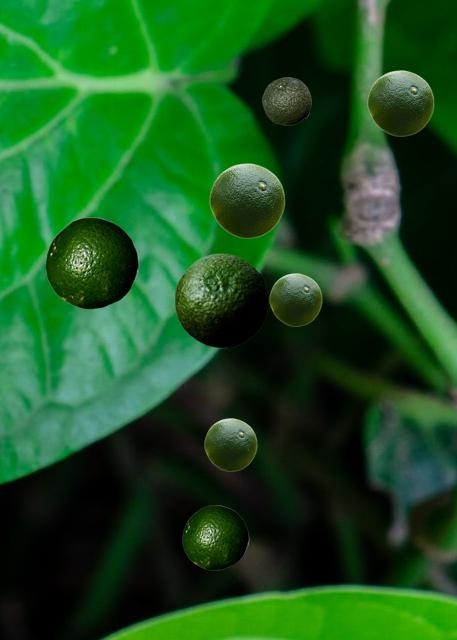calamansi: (174, 253, 267, 347), (45, 217, 138, 308), (209, 163, 284, 237), (367, 70, 433, 135), (182, 505, 248, 569), (269, 273, 321, 325), (204, 418, 256, 470), (262, 77, 310, 124)
